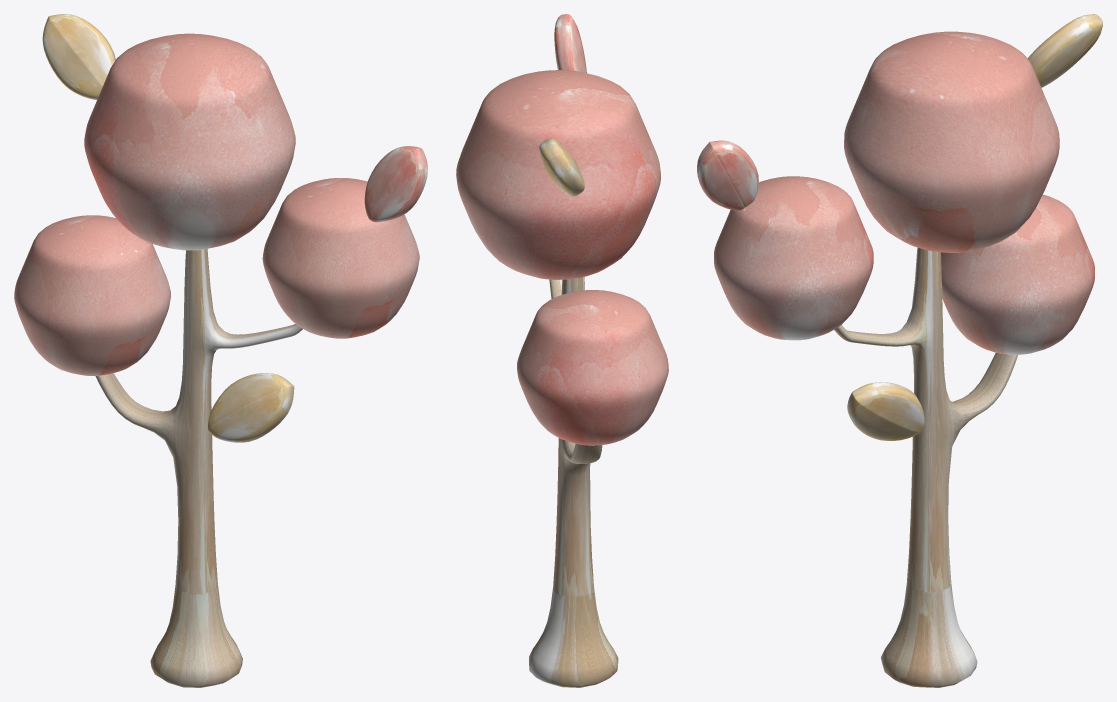
File: tree_redtwo.fbx
3 renders of one model, left to right at view 1: azimuth 30°, elevation 25°; view 2: azimuth 150°, elevation 25°; view 3: azimuth 270°, elevation 25°, orthographic. The views are drawn at different scales.
Parts seen in each view (by area): view 1: Sphere252, Box288, Sphere250, Sphere251, Box289, Box291, Box290; view 2: Sphere252, Sphere250, Box288, Box291, Box290; view 3: Sphere252, Box288, Sphere251, Sphere250, Box289, Box290, Box291.
Boxes of the visible parts, bbox=[...] form: Sphere252: bbox=[84, 33, 295, 250]; Box288: bbox=[95, 249, 302, 687]; Sphere250: bbox=[14, 215, 170, 375]; Sphere251: bbox=[262, 178, 419, 338]; Box289: bbox=[208, 373, 294, 442]; Box291: bbox=[42, 14, 115, 100]; Box290: bbox=[364, 146, 427, 222]; Sphere252: bbox=[456, 70, 660, 279]; Sphere250: bbox=[517, 290, 668, 445]; Box288: bbox=[529, 277, 618, 687]; Box291: bbox=[539, 138, 584, 196]; Box290: bbox=[554, 14, 586, 72]; Sphere252: bbox=[844, 31, 1059, 252]; Box288: bbox=[834, 247, 1017, 687]; Sphere251: bbox=[714, 176, 873, 340]; Sphere250: bbox=[941, 194, 1094, 354]; Box289: bbox=[847, 382, 924, 440]; Box290: bbox=[697, 140, 758, 210]; Box291: bbox=[1027, 14, 1102, 87].
Bounding box in the file's own units: 2.76 × 5.98 × 3.45.
4 materials, 4 textured.
